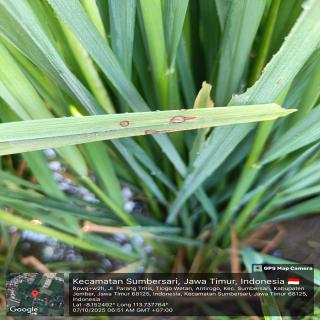Blast: (170, 115, 190, 124), (118, 120, 134, 129), (144, 129, 165, 135)
